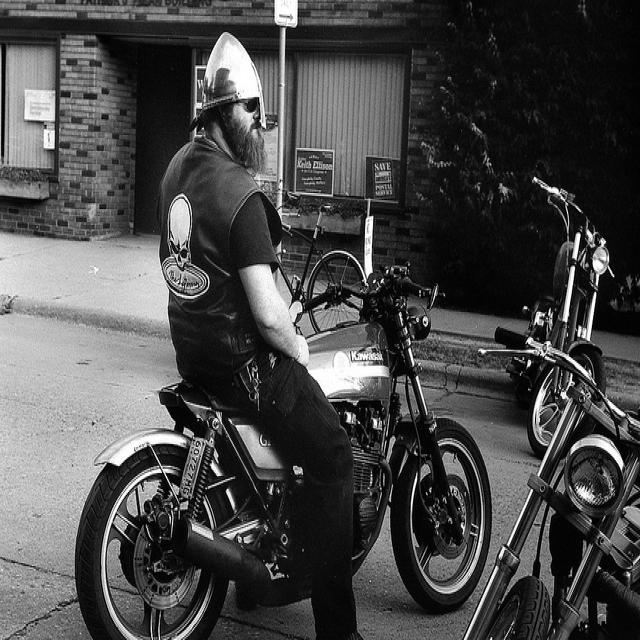motor: (72, 268, 494, 633), (466, 299, 640, 633), (506, 179, 612, 455)
